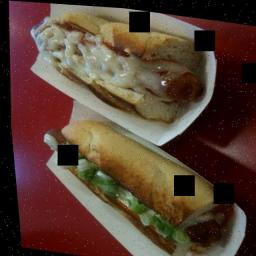hotdog: (30, 112, 239, 256), (22, 5, 208, 126)
